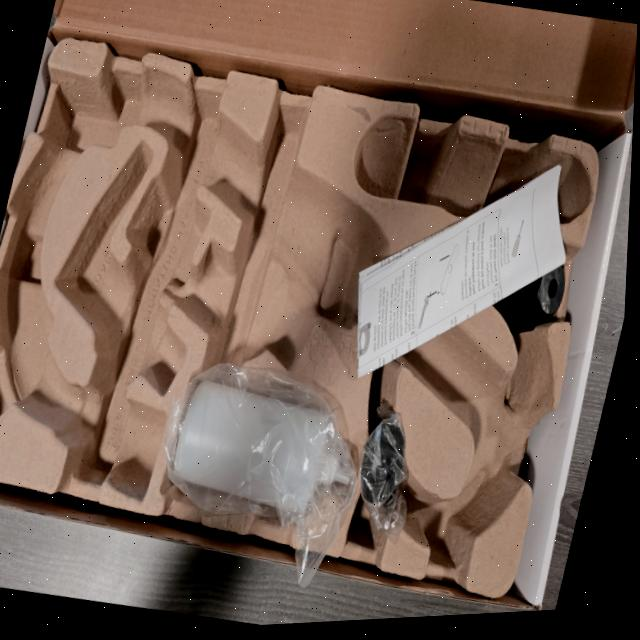1m: (0, 74, 554, 500)
2m: (57, 139, 187, 393)
3: (172, 374, 359, 522)
4m: (354, 111, 590, 225)
5o: (497, 253, 568, 332)
6m: (407, 464, 496, 565)
7: (360, 409, 409, 543)
8: (358, 163, 567, 379)
